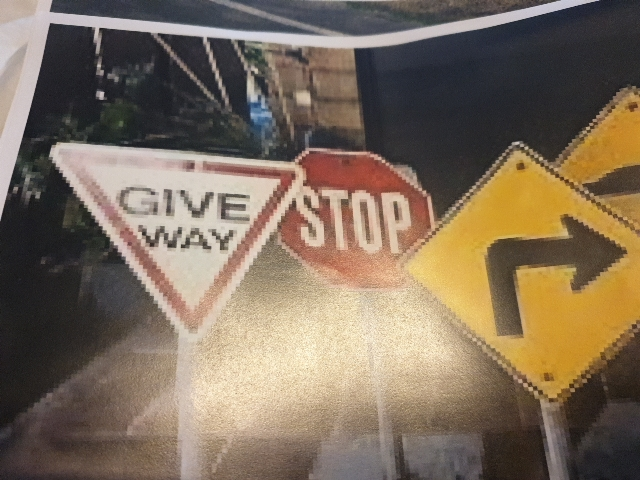giveway: (56, 149, 302, 326)
right: (443, 155, 632, 390)
stop: (288, 156, 426, 281)
